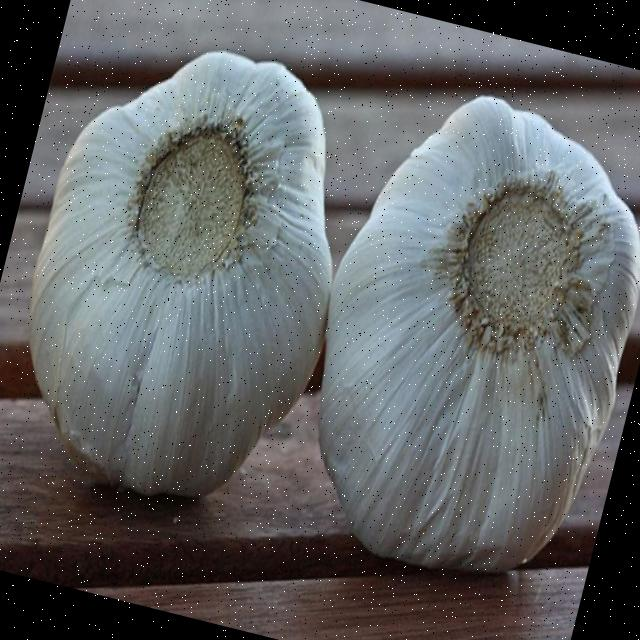garlic: (319, 95, 640, 568), (29, 50, 330, 492)
